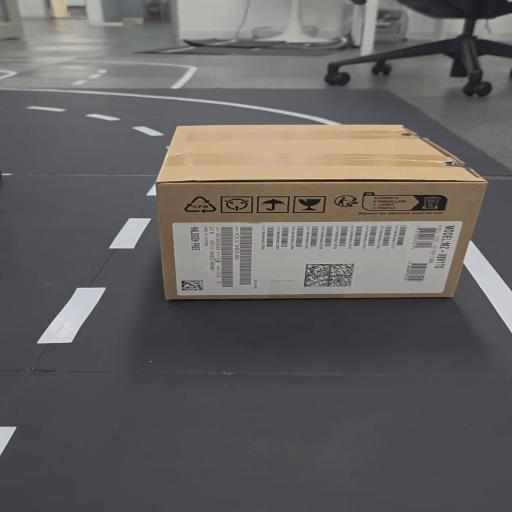Box: (163, 114, 481, 311)
